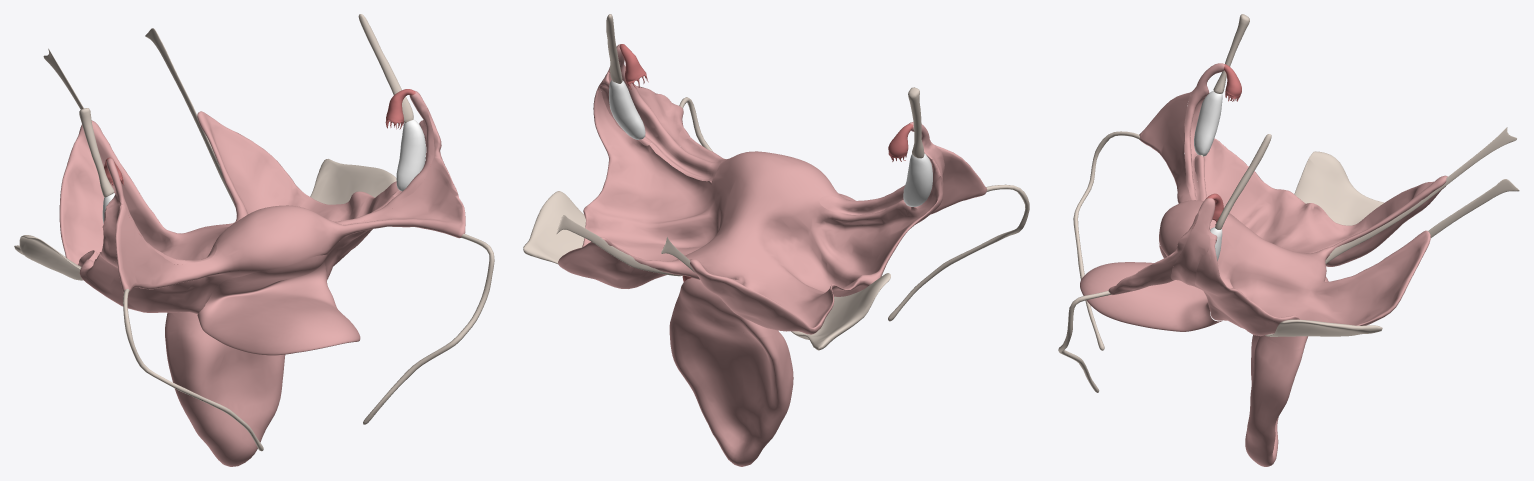
The model's file is female-reproductive.glb.
3 renders of one model, left to right at view 1: azimuth 30°, elevation 25°; view 2: azimuth 150°, elevation 25°; view 3: azimuth 270°, elevation 25°, orthographic. The views are drawn at different scales.
Parts seen in each view (by area): view 1: VH_F_broad_ligament, VH_F_vagina, VH_F_uterovesical_pouch, VH_F_left_cardinal_ligament_of_uterus, VH_F_mesosalpinx_L, VH_F_right_round_ligament_of_uterus, VH_F_left_ovary, VH_F_mesosalpinx_R, VH_F_right_cardinal_ligament_of_uterus, VH_F_left_round_ligament_of_uterus, VH_F_left_uterosacral_ligament, VH_F_suspensory_ligament_of_ovary_L (+1 smaller); view 2: VH_F_broad_ligament, VH_F_vagina, VH_F_cervicovaginal_junction, VH_F_left_cardinal_ligament_of_uterus, VH_F_mesosalpinx_L, VH_F_right_cardinal_ligament_of_uterus, VH_F_mesosalpinx_R, VH_F_left_ovary, VH_F_left_round_ligament_of_uterus, VH_F_right_ovary, VH_F_left_uterosacral_ligament, VH_F_suspensory_ligament_of_ovary_R (+1 smaller); view 3: VH_F_broad_ligament, VH_F_uterovesical_pouch, VH_F_vagina, VH_F_right_cardinal_ligament_of_uterus, VH_F_mesosalpinx_L, VH_F_mesosalpinx_R, VH_F_left_cardinal_ligament_of_uterus, VH_F_right_uterosacral_ligament, VH_F_right_ovary, VH_F_left_round_ligament_of_uterus, VH_F_left_uterosacral_ligament, VH_F_suspensory_ligament_of_ovary_L (+2 smaller).
Part boxes in pixels (<box>): VH_F_broad_ligament: <box>59,107,465,313</box>; VH_F_vagina: <box>165,312,285,466</box>; VH_F_uterovesical_pouch: <box>197,255,360,355</box>; VH_F_left_cardinal_ligament_of_uterus: <box>310,159,396,204</box>; VH_F_mesosalpinx_L: <box>330,90,434,252</box>; VH_F_right_round_ligament_of_uterus: <box>363,234,494,424</box>; VH_F_left_ovary: <box>396,119,425,191</box>; VH_F_mesosalpinx_R: <box>102,158,216,276</box>; VH_F_right_cardinal_ligament_of_uterus: <box>14,235,82,280</box>; VH_F_left_round_ligament_of_uterus: <box>123,289,263,451</box>; VH_F_left_uterosacral_ligament: <box>145,28,235,207</box>; VH_F_suspensory_ligament_of_ovary_L: <box>358,14,413,123</box>; VH_F_broad_ligament: <box>558,79,987,334</box>; VH_F_vagina: <box>669,316,793,466</box>; VH_F_cervicovaginal_junction: <box>672,278,775,337</box>; VH_F_left_cardinal_ligament_of_uterus: <box>523,191,585,264</box>; VH_F_mesosalpinx_L: <box>607,44,720,181</box>; VH_F_right_cardinal_ligament_of_uterus: <box>791,273,890,350</box>; VH_F_mesosalpinx_R: <box>819,122,944,215</box>; VH_F_left_ovary: <box>609,80,645,139</box>; VH_F_left_round_ligament_of_uterus: <box>888,184,1029,321</box>; VH_F_right_ovary: <box>903,153,932,206</box>; VH_F_left_uterosacral_ligament: <box>556,215,682,276</box>; VH_F_suspensory_ligament_of_ovary_R: <box>908,87,924,158</box>; VH_F_broad_ligament: <box>1108,92,1447,336</box>; VH_F_uterovesical_pouch: <box>1080,244,1222,331</box>; VH_F_vagina: <box>1245,335,1304,466</box>; VH_F_right_cardinal_ligament_of_uterus: <box>1294,151,1384,225</box>; VH_F_mesosalpinx_L: <box>1170,198,1215,288</box>; VH_F_mesosalpinx_R: <box>1184,63,1224,200</box>; VH_F_left_cardinal_ligament_of_uterus: <box>1265,319,1382,336</box>; VH_F_right_uterosacral_ligament: <box>1325,127,1516,263</box>; VH_F_right_ovary: <box>1194,91,1222,156</box>; VH_F_left_round_ligament_of_uterus: <box>1073,131,1140,350</box>; VH_F_left_uterosacral_ligament: <box>1428,179,1519,237</box>; VH_F_suspensory_ligament_of_ovary_L: <box>1215,134,1271,229</box>.
Bounding box in the file's own units: 0.1471 × 0.159 × 0.1706.
